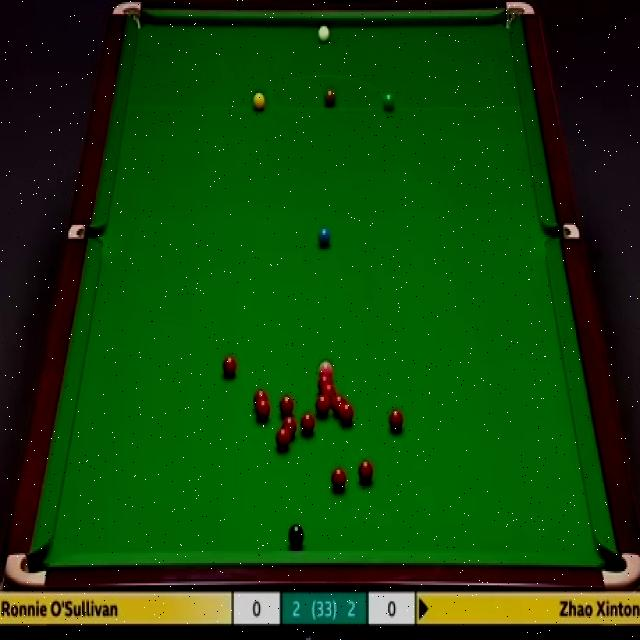black-ball: (288, 520, 304, 548)
blue-ball: (316, 226, 332, 250)
brown-ball: (324, 90, 336, 108)
green-ball: (383, 92, 394, 111)
pink-ball: (317, 358, 333, 373)
red-ball: (275, 428, 291, 453), (389, 409, 405, 432), (331, 467, 347, 489), (358, 460, 373, 483), (340, 401, 354, 425), (256, 402, 271, 424), (301, 412, 316, 434), (222, 354, 236, 377), (253, 388, 269, 408), (279, 397, 294, 417), (284, 417, 298, 435), (314, 396, 329, 412), (333, 397, 348, 413), (319, 383, 337, 396), (316, 374, 334, 384)
white-ball: (316, 22, 332, 44)
yellow-ball: (252, 90, 267, 112)
